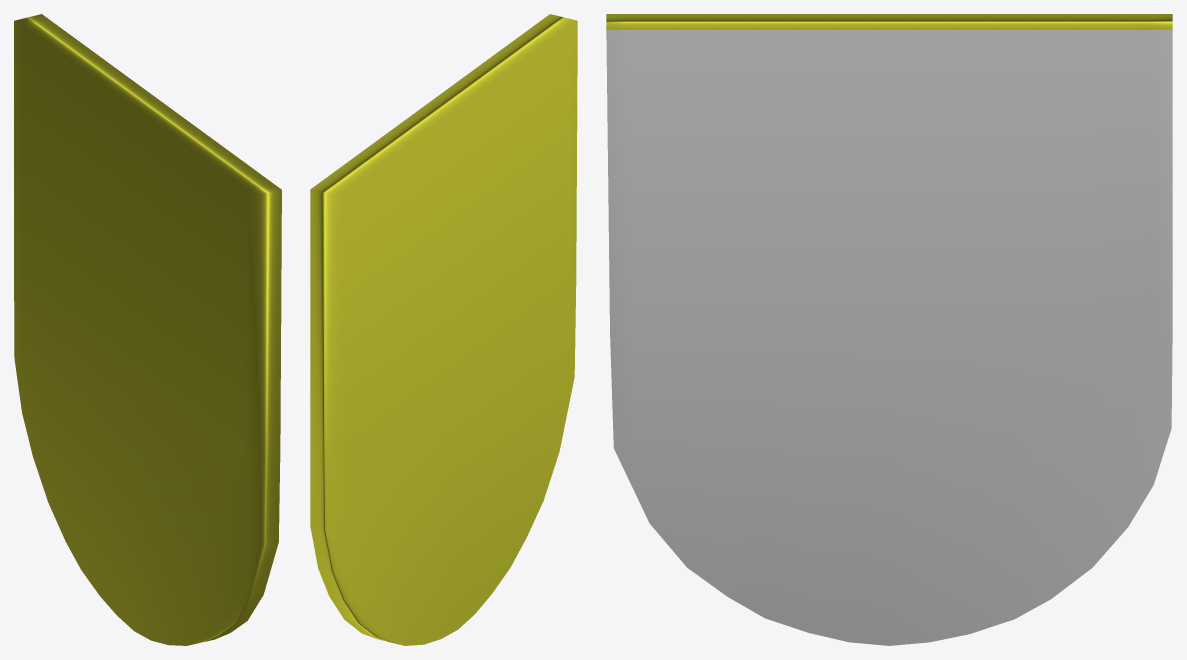
Rendered from SanMiguelDeAllende.fbx.
3 views of the same model, side by side, from view 1: azimuth 30°, elevation 25°; view 2: azimuth 150°, elevation 25°; view 3: azimuth 270°, elevation 25° (orthographic). The views are drawn at different scales.
Parts seen in each view (by area): view 1: Cubo.001; view 2: Cubo.001; view 3: Cubo.001.
Part boxes in pixels (x1=…): Cubo.001: x1=14, y1=14, x2=281, y2=645; Cubo.001: x1=310, y1=14, x2=577, y2=645; Cubo.001: x1=606, y1=14, x2=1172, y2=645.
Bounding box in the file's own units: 26.35 × 462 × 385.
